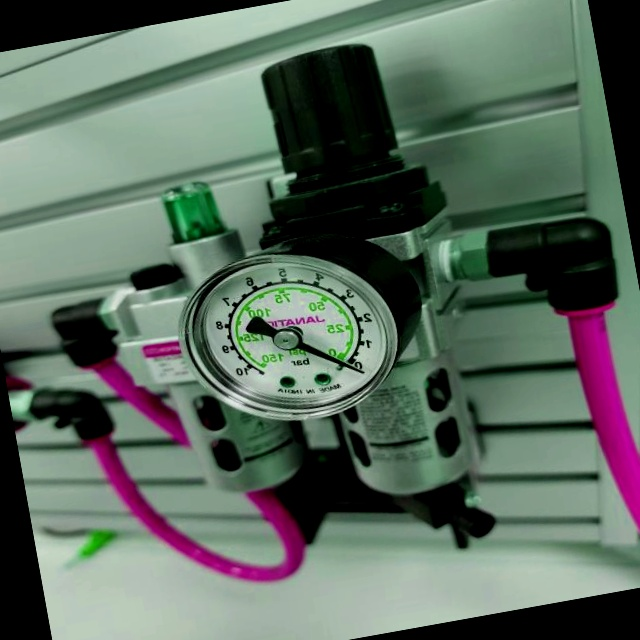FRL unit: (9, 0, 640, 622)
push button: (163, 216, 440, 441)
